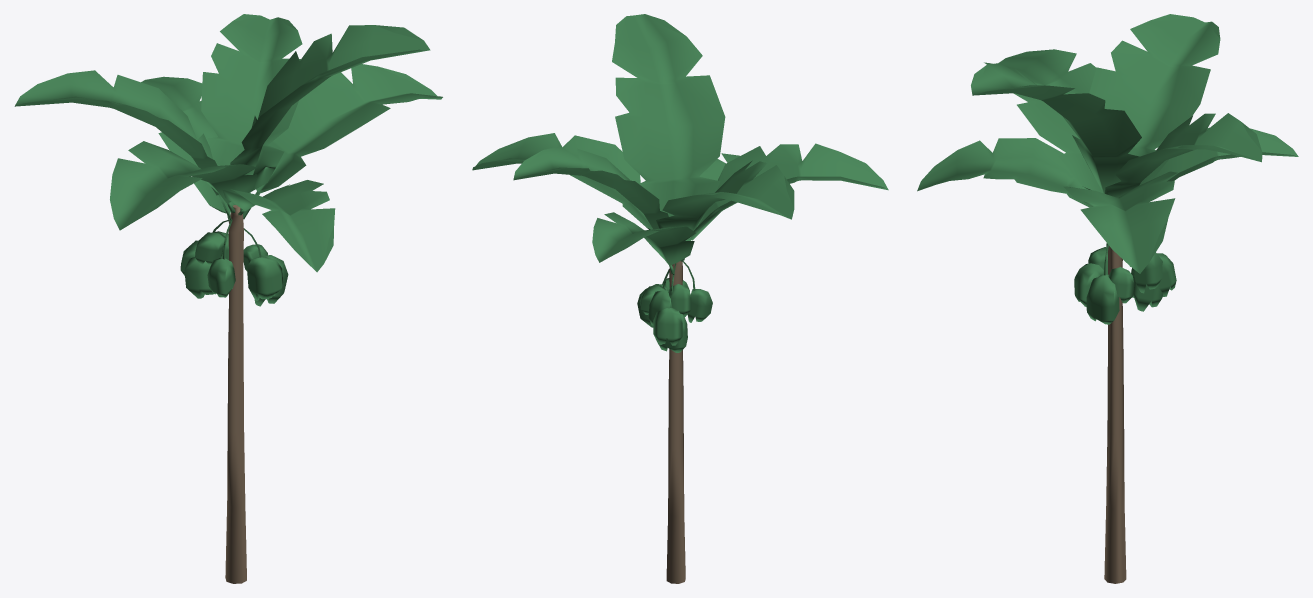
File: PalmTree04_coconut.fbx
The picture shows the model from 3 angles, left to right: view 1: azimuth 30°, elevation 25°; view 2: azimuth 150°, elevation 25°; view 3: azimuth 270°, elevation 25°; orthographic projection. The views are drawn at different scales.
Parts seen in each view (by area): view 1: PalmTree04_coconut; view 2: PalmTree04_coconut; view 3: PalmTree04_coconut.
Part boxes in pixels (box(x1,y1,x2,y2)): PalmTree04_coconut: box(14, 14, 442, 583); PalmTree04_coconut: box(472, 14, 888, 583); PalmTree04_coconut: box(917, 14, 1298, 583).
Bounding box in the file's own units: 2.93 × 3.96 × 2.5.
